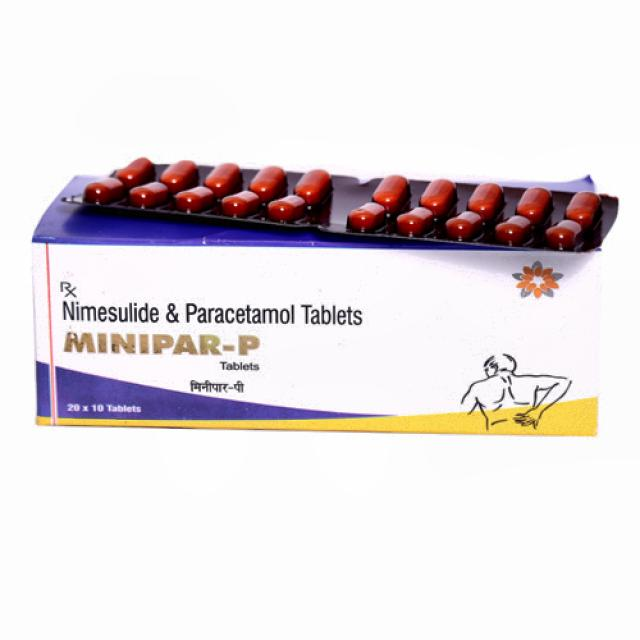Paracetamol: (41, 269, 377, 388)
